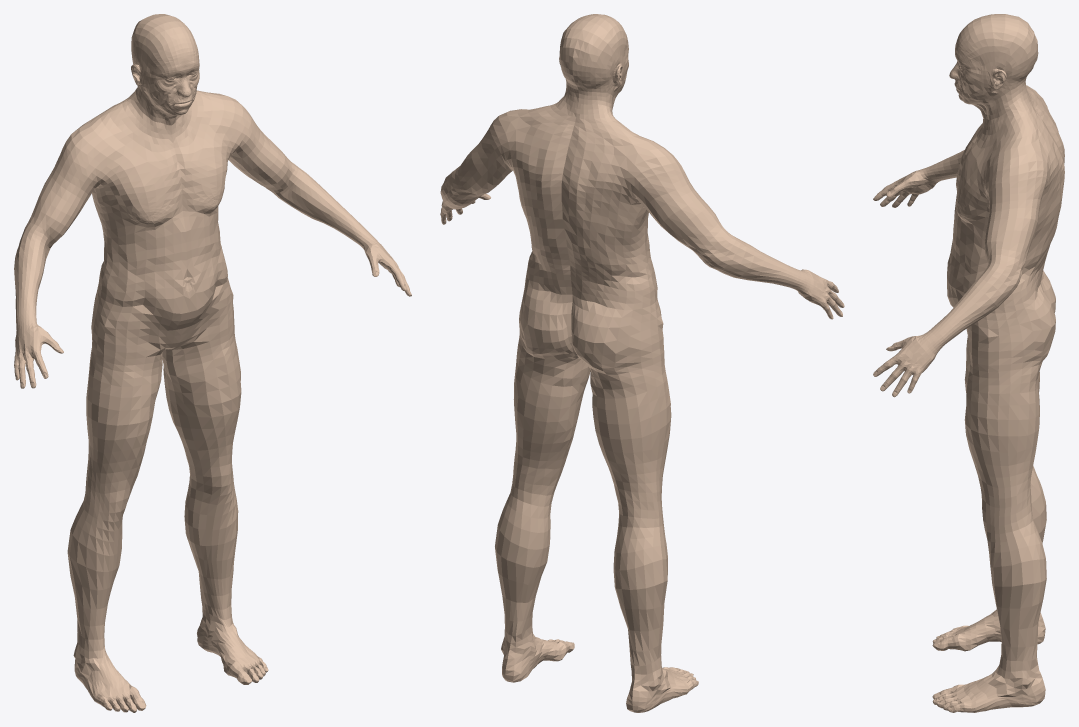
Rendered from male-elder-heavy-high.glb.
3 views of the same model, side by side, from view 1: azimuth 30°, elevation 25°; view 2: azimuth 150°, elevation 25°; view 3: azimuth 270°, elevation 25° (orthographic).
Parts seen in each view (by area): view 1: world; view 2: world; view 3: world.
Boxes of the visible parts, x1,y1,x2,y2 form: world: (14, 14, 411, 712); world: (440, 14, 844, 712); world: (873, 14, 1064, 712).
Bounding box in the file's own units: 1.23 × 1.98 × 0.523.
